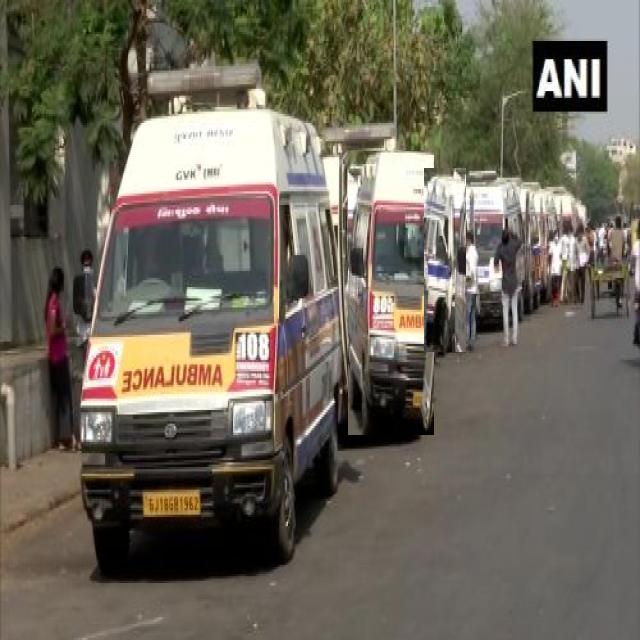bicycle: (590, 216, 629, 317)
emergency: (81, 65, 359, 571), (349, 151, 434, 435), (462, 180, 522, 319), (424, 169, 466, 352)
